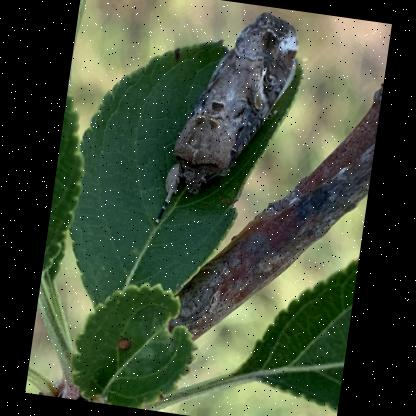Fall Armyworm Moth: (151, 0, 306, 245)
